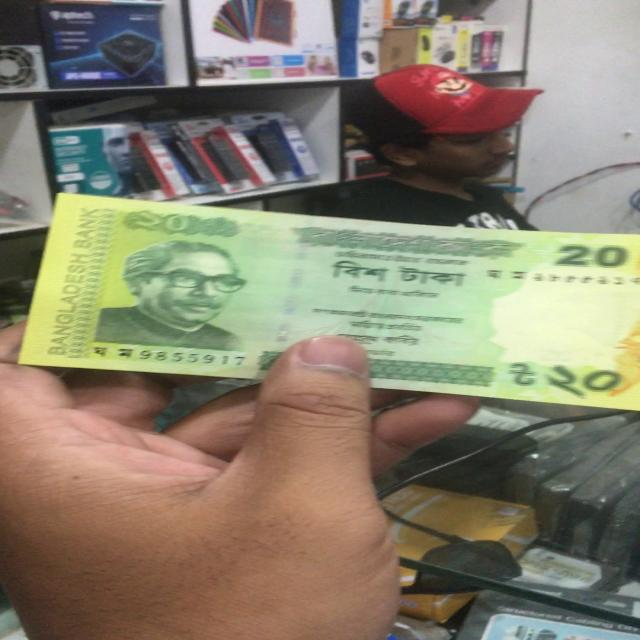Taka: (46, 196, 640, 411)
